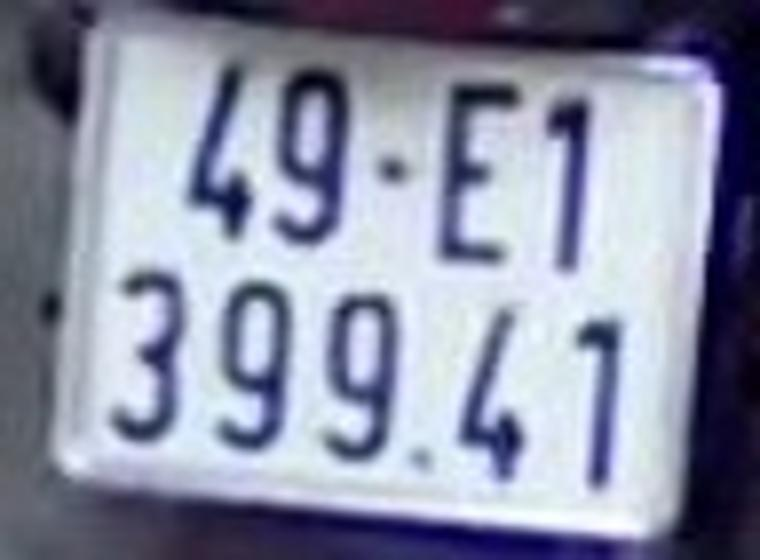-: (374, 157, 402, 180)
.: (410, 447, 429, 470)
1: (576, 315, 620, 492), (548, 91, 584, 271)
3: (112, 268, 178, 431)
4: (183, 64, 253, 247), (456, 309, 522, 484)
9: (270, 67, 343, 244), (219, 278, 283, 447), (327, 295, 391, 463)
E: (439, 83, 514, 260)
